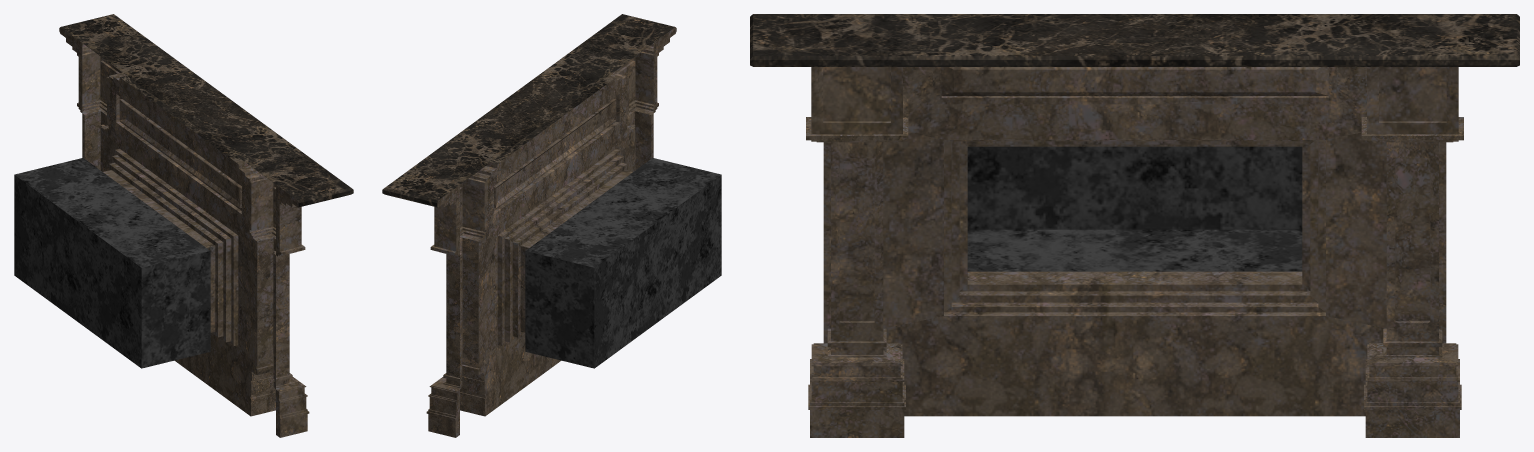
File: fireplace.glb
3 renders of one model, left to right at view 1: azimuth 30°, elevation 25°; view 2: azimuth 150°, elevation 25°; view 3: azimuth 270°, elevation 25°, orthographic. The views are drawn at different scales.
Parts seen in each view (by area): view 1: Fireplace; view 2: Fireplace; view 3: Fireplace.
Boxes of the visible parts, box(x1,y1,x2,y2) form: Fireplace: box(14, 14, 353, 437); Fireplace: box(382, 14, 721, 437); Fireplace: box(750, 14, 1519, 437).
Bounding box in the file's own units: 0.0141 × 0.0215 × 0.0373.
1 material, 1 textured.
